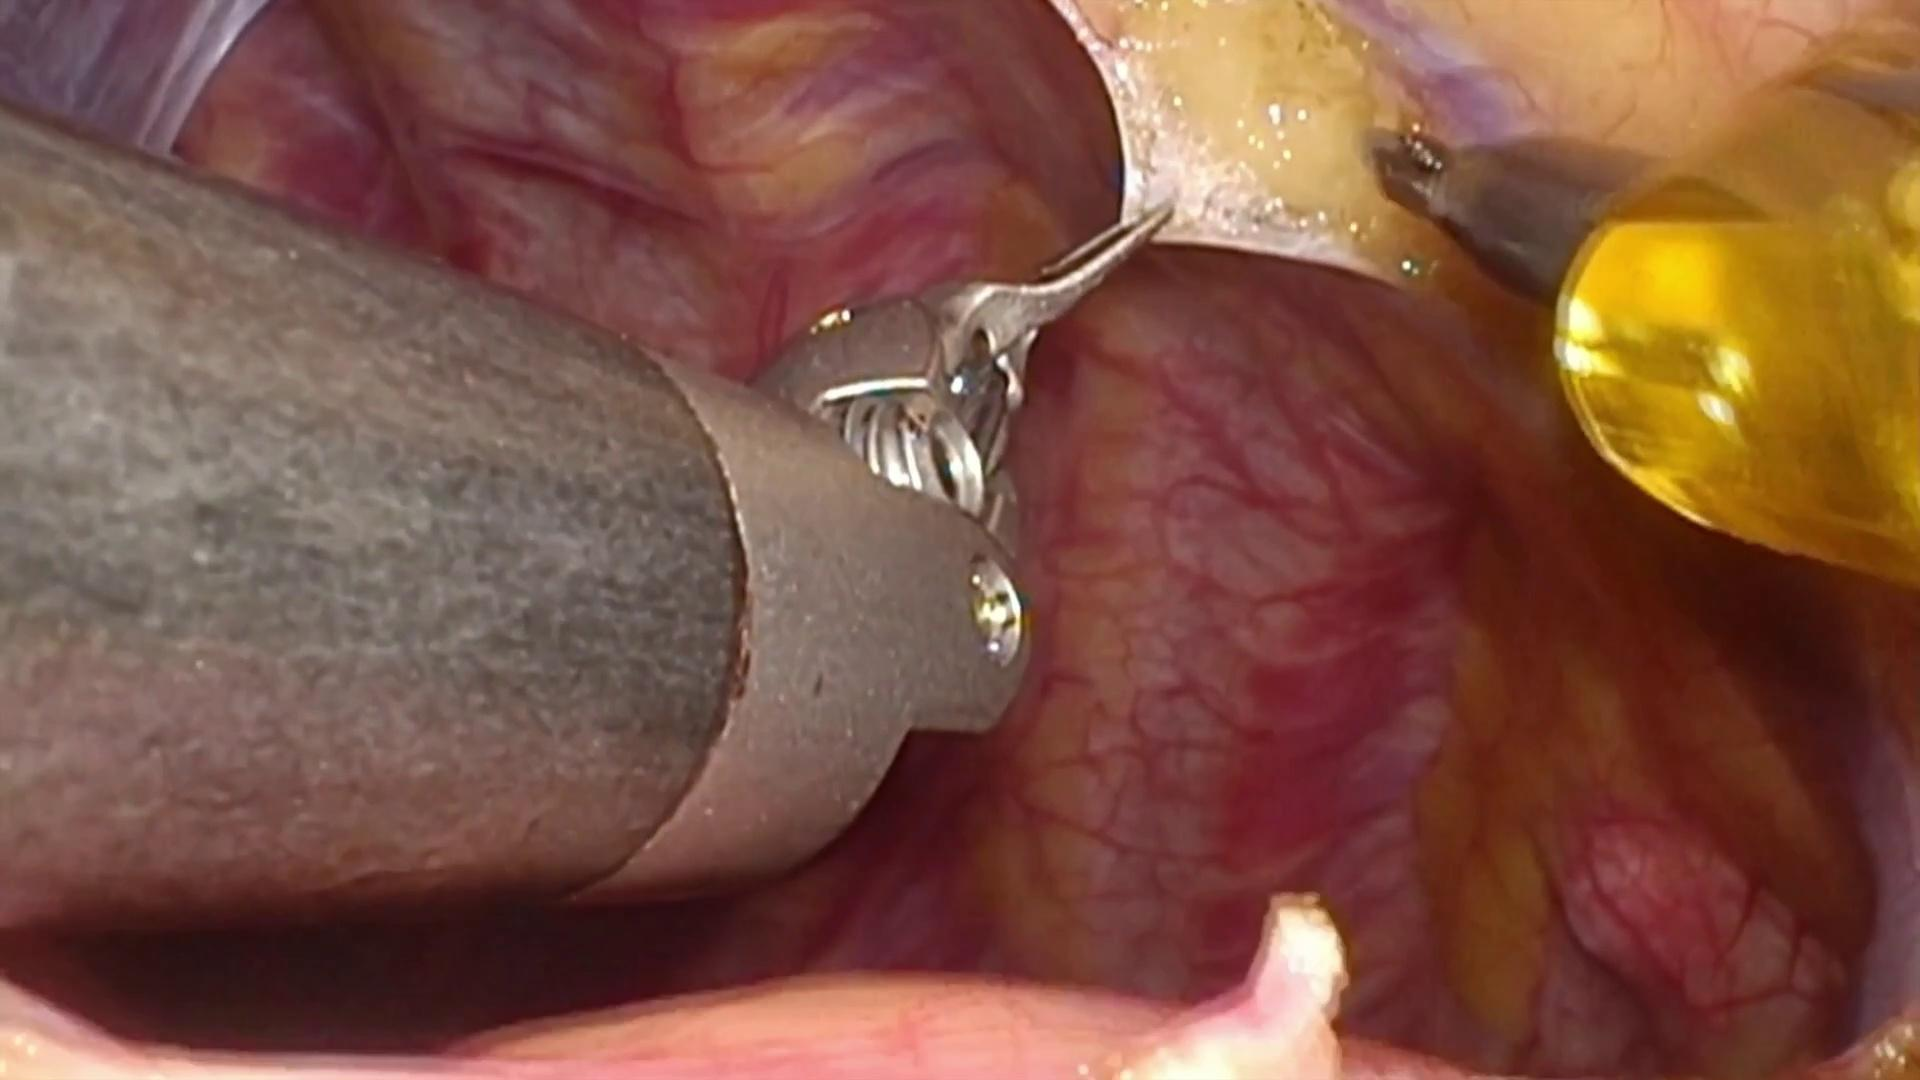Cautery_Spatula: (1367, 116, 1675, 293)
Debakey: (938, 177, 1178, 418)
